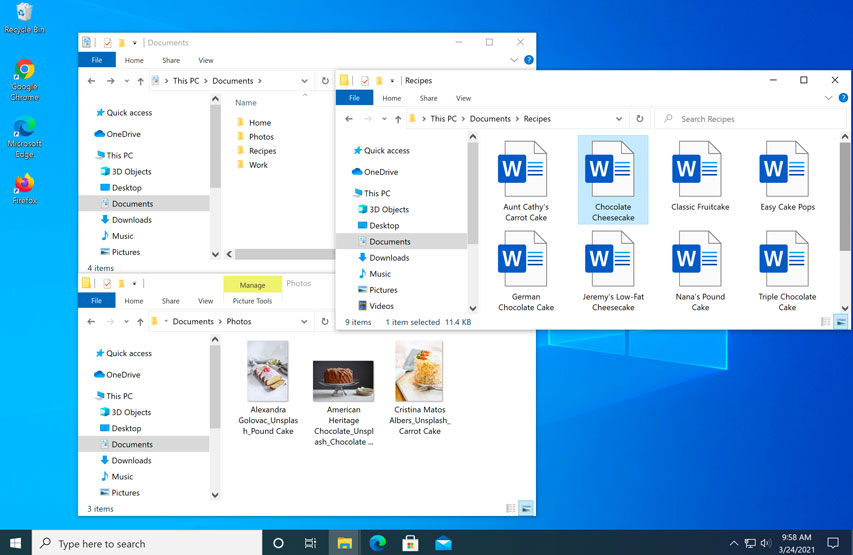search_box: (31, 529, 263, 555)
start_bar: (4, 530, 24, 554)
